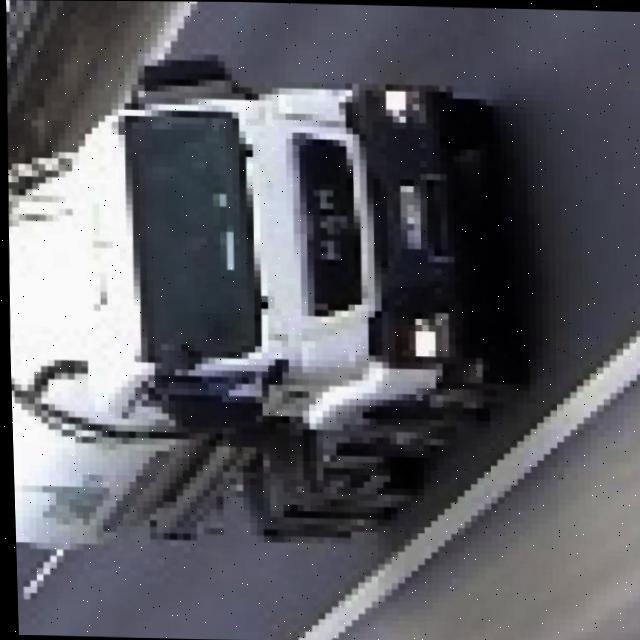truck: (1, 55, 522, 547)
